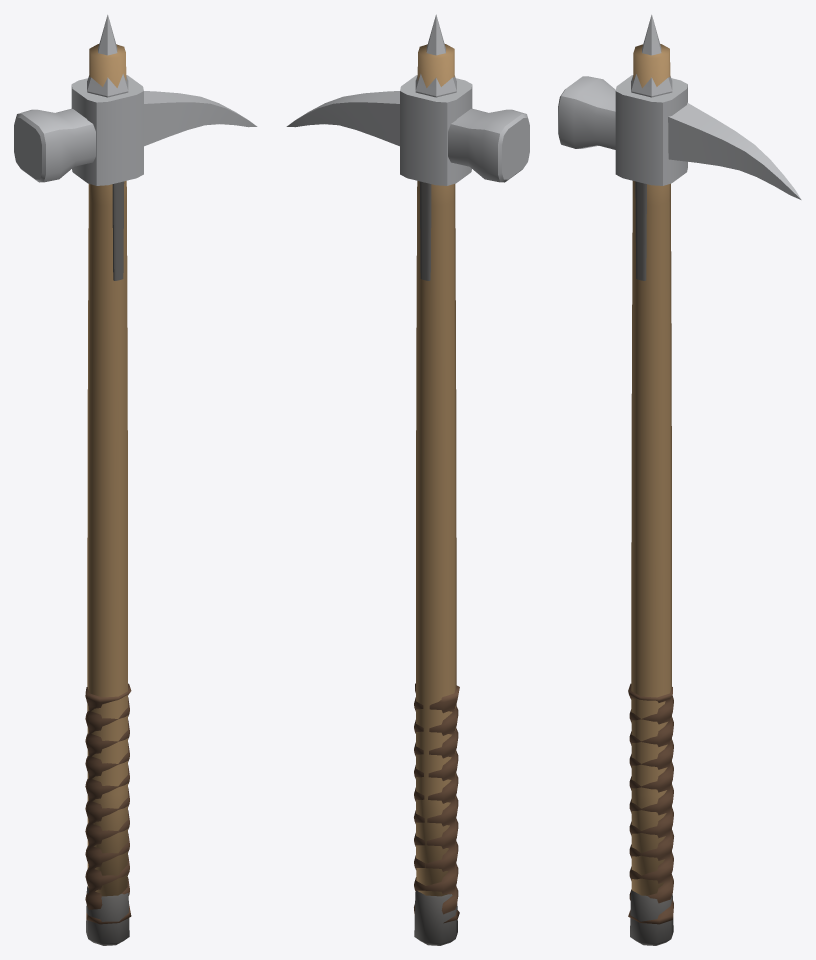
The model's file is warhammer.glb.
The picture shows the model from 3 angles, left to right: view 1: azimuth 30°, elevation 25°; view 2: azimuth 150°, elevation 25°; view 3: azimuth 330°, elevation 25°; orthographic projection.
Visible parts, largest first — view 1: warhammer; view 2: warhammer; view 3: warhammer.
Part boxes in pixels (x1,y1,x2,y2): warhammer: [14, 14, 257, 945]; warhammer: [286, 14, 529, 945]; warhammer: [558, 14, 801, 945].
Bounding box in the file's own units: 0.49 × 1.89 × 0.1165.
